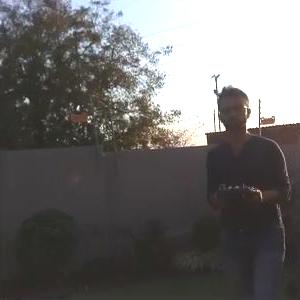follow: (204, 81, 295, 298)
